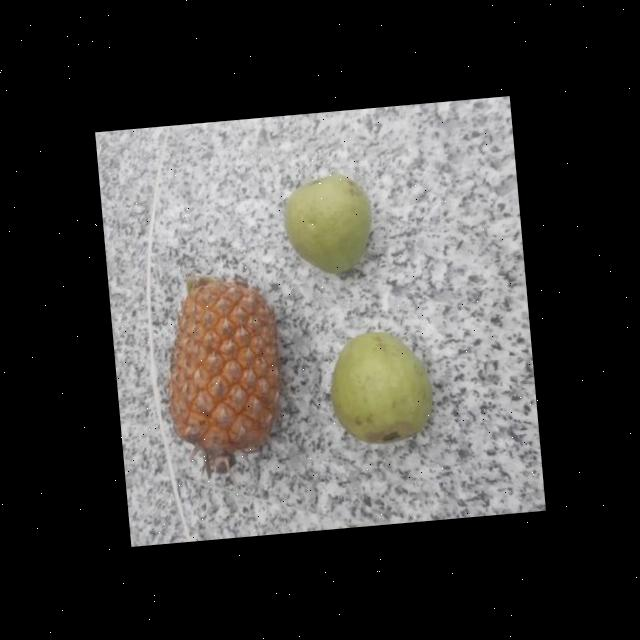guava: (326, 327, 434, 450), (281, 169, 375, 281)
pineapple: (157, 264, 290, 464)
